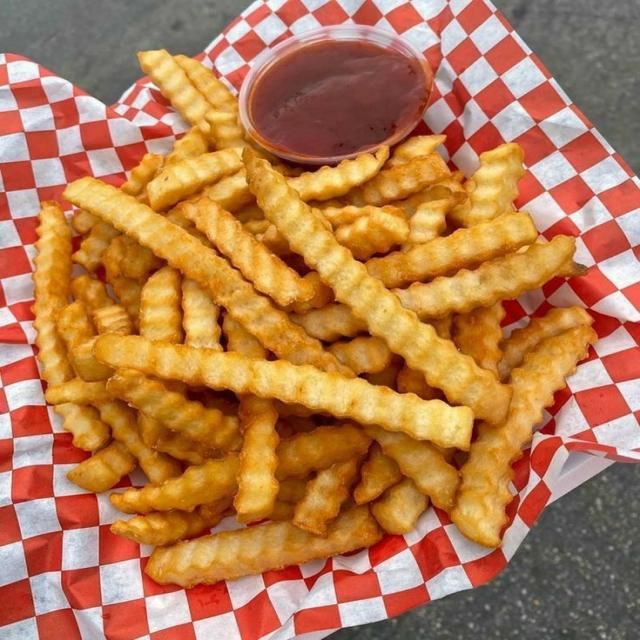potato fries: (34, 51, 595, 586), (244, 150, 511, 421), (65, 178, 349, 375), (95, 335, 473, 449), (452, 326, 597, 546), (146, 507, 382, 586), (394, 236, 575, 318), (179, 199, 313, 306), (367, 213, 537, 286), (108, 369, 240, 451), (110, 453, 239, 513), (367, 427, 459, 511), (110, 453, 238, 513), (33, 203, 73, 384), (499, 307, 592, 379), (100, 401, 181, 482), (450, 143, 525, 227), (138, 50, 211, 133), (147, 149, 242, 210), (234, 395, 279, 521), (111, 498, 231, 545), (346, 153, 450, 206), (293, 457, 362, 536), (289, 147, 388, 201), (277, 423, 370, 480), (57, 301, 111, 381), (139, 415, 220, 465), (336, 207, 409, 260), (454, 302, 505, 376), (175, 55, 237, 112), (67, 442, 135, 492), (189, 169, 254, 221), (140, 267, 183, 343), (371, 478, 428, 534), (354, 442, 402, 503), (291, 304, 366, 342), (182, 279, 222, 350), (402, 197, 453, 252), (54, 402, 110, 450), (104, 236, 163, 281), (73, 221, 120, 272), (329, 337, 391, 374), (386, 135, 445, 167), (287, 272, 334, 312), (70, 337, 112, 381), (108, 272, 141, 327), (121, 154, 163, 196), (46, 378, 113, 404), (164, 127, 208, 166), (206, 111, 249, 150), (71, 275, 114, 311), (397, 366, 442, 399), (321, 206, 380, 229), (93, 304, 133, 335), (72, 210, 99, 235)
